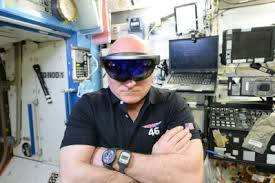hololens: (99, 52, 161, 81)
